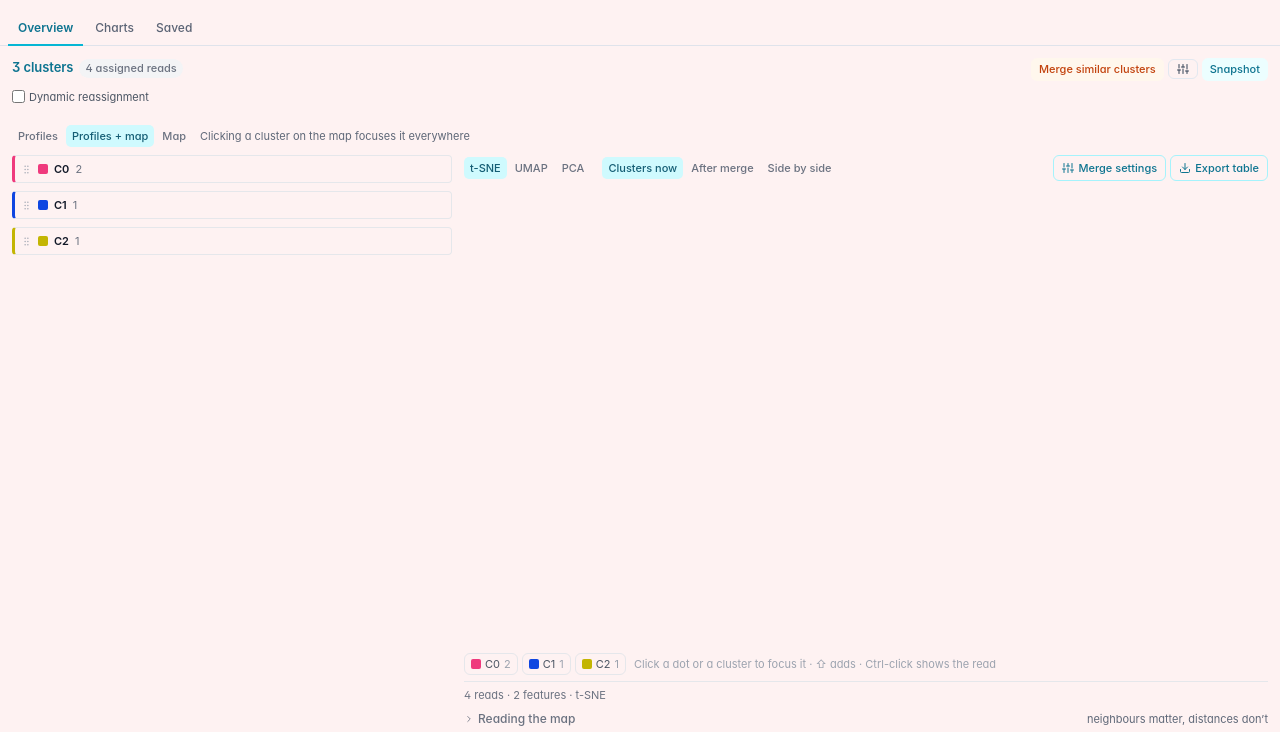
Scenario: Clusters › Overview read map › is in Overview (Profiles | Map), not a Charts sub-tab
The width and height of the screenshot is (1280, 732).
Expected: the element with test id "cluster-overview-mode" shows "Profiles", [12,125,64,147]
Expected: the element with test id "cluster-overview-mode" shows "map", [156,125,192,147]
Note: Charts: Profiles, Composition, V-Plot (no Projection).
Click the button "Charts". click: (115, 29)
box: [85,12,144,46]
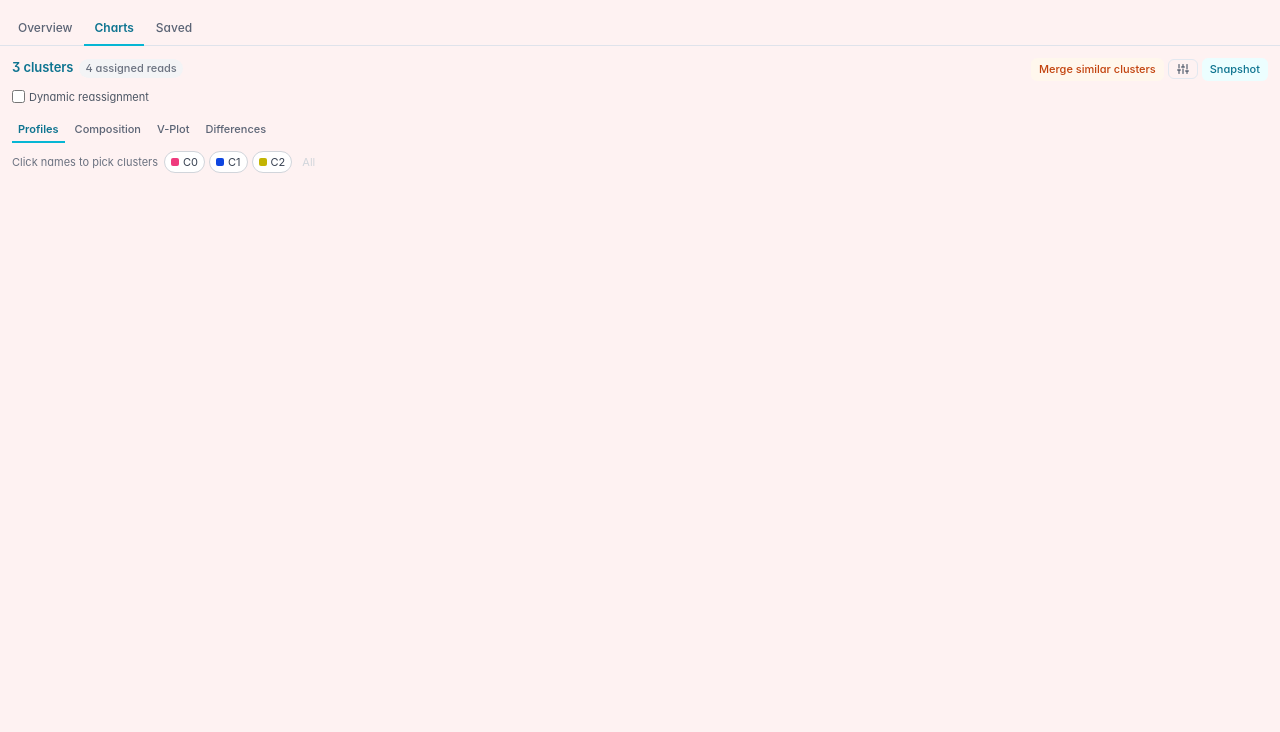
Now the element with test id "projection-map" is gone
